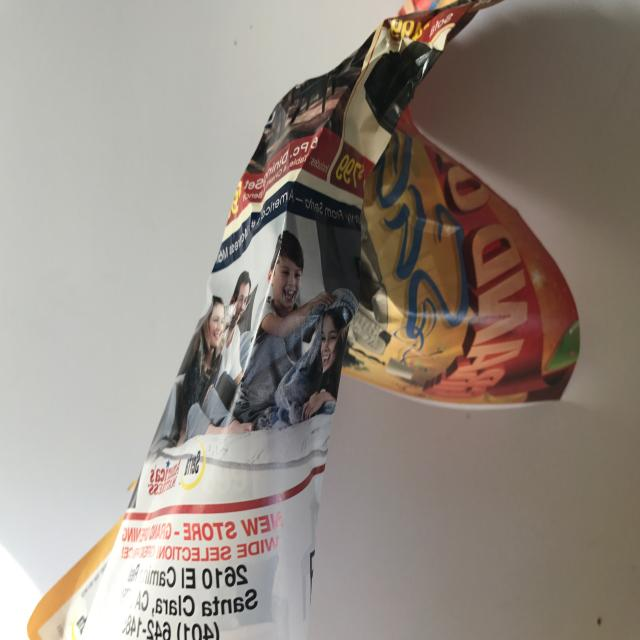paper: (11, 0, 586, 640)
